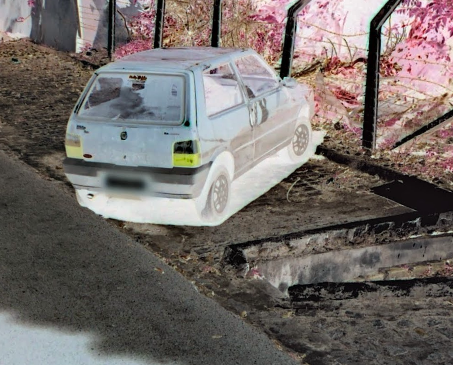car: (62, 40, 321, 227)
